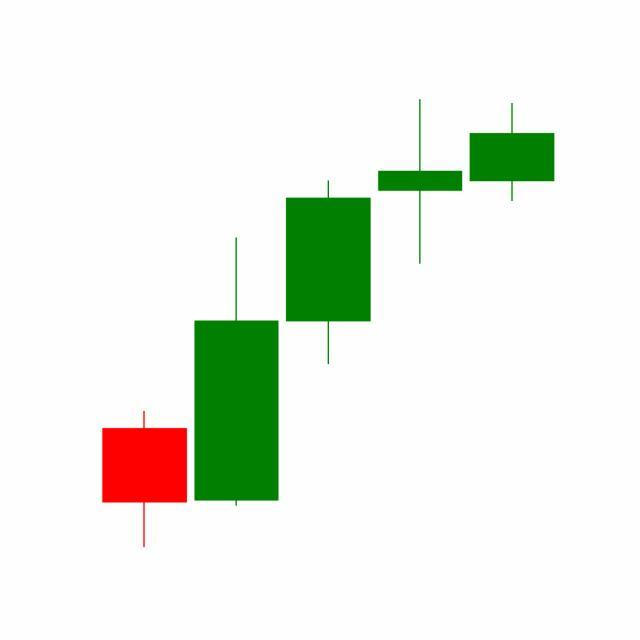Up-Down Gap Side-by-side White Lines: (280, 99, 555, 368)
